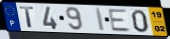0: (131, 9, 151, 33)
4: (42, 5, 60, 31)
9: (64, 6, 84, 32)
E: (107, 9, 133, 33)
I: (94, 7, 106, 33)
T: (18, 5, 36, 29)
